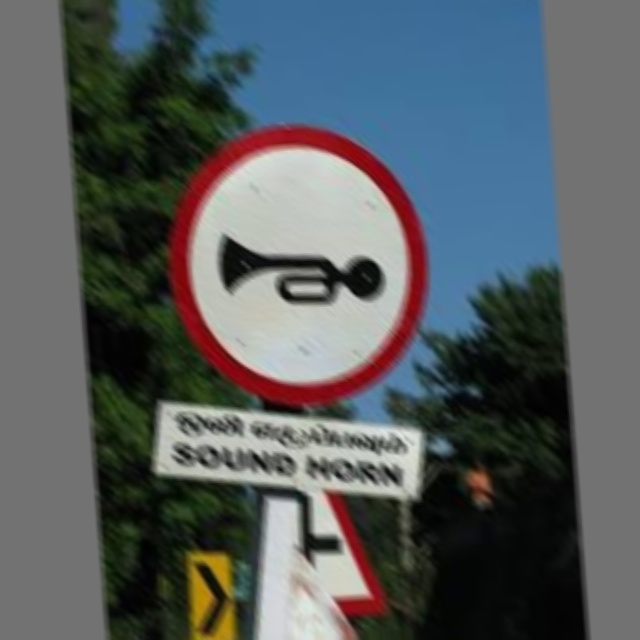Compulsory_Sound_Horn: (164, 117, 435, 404)
